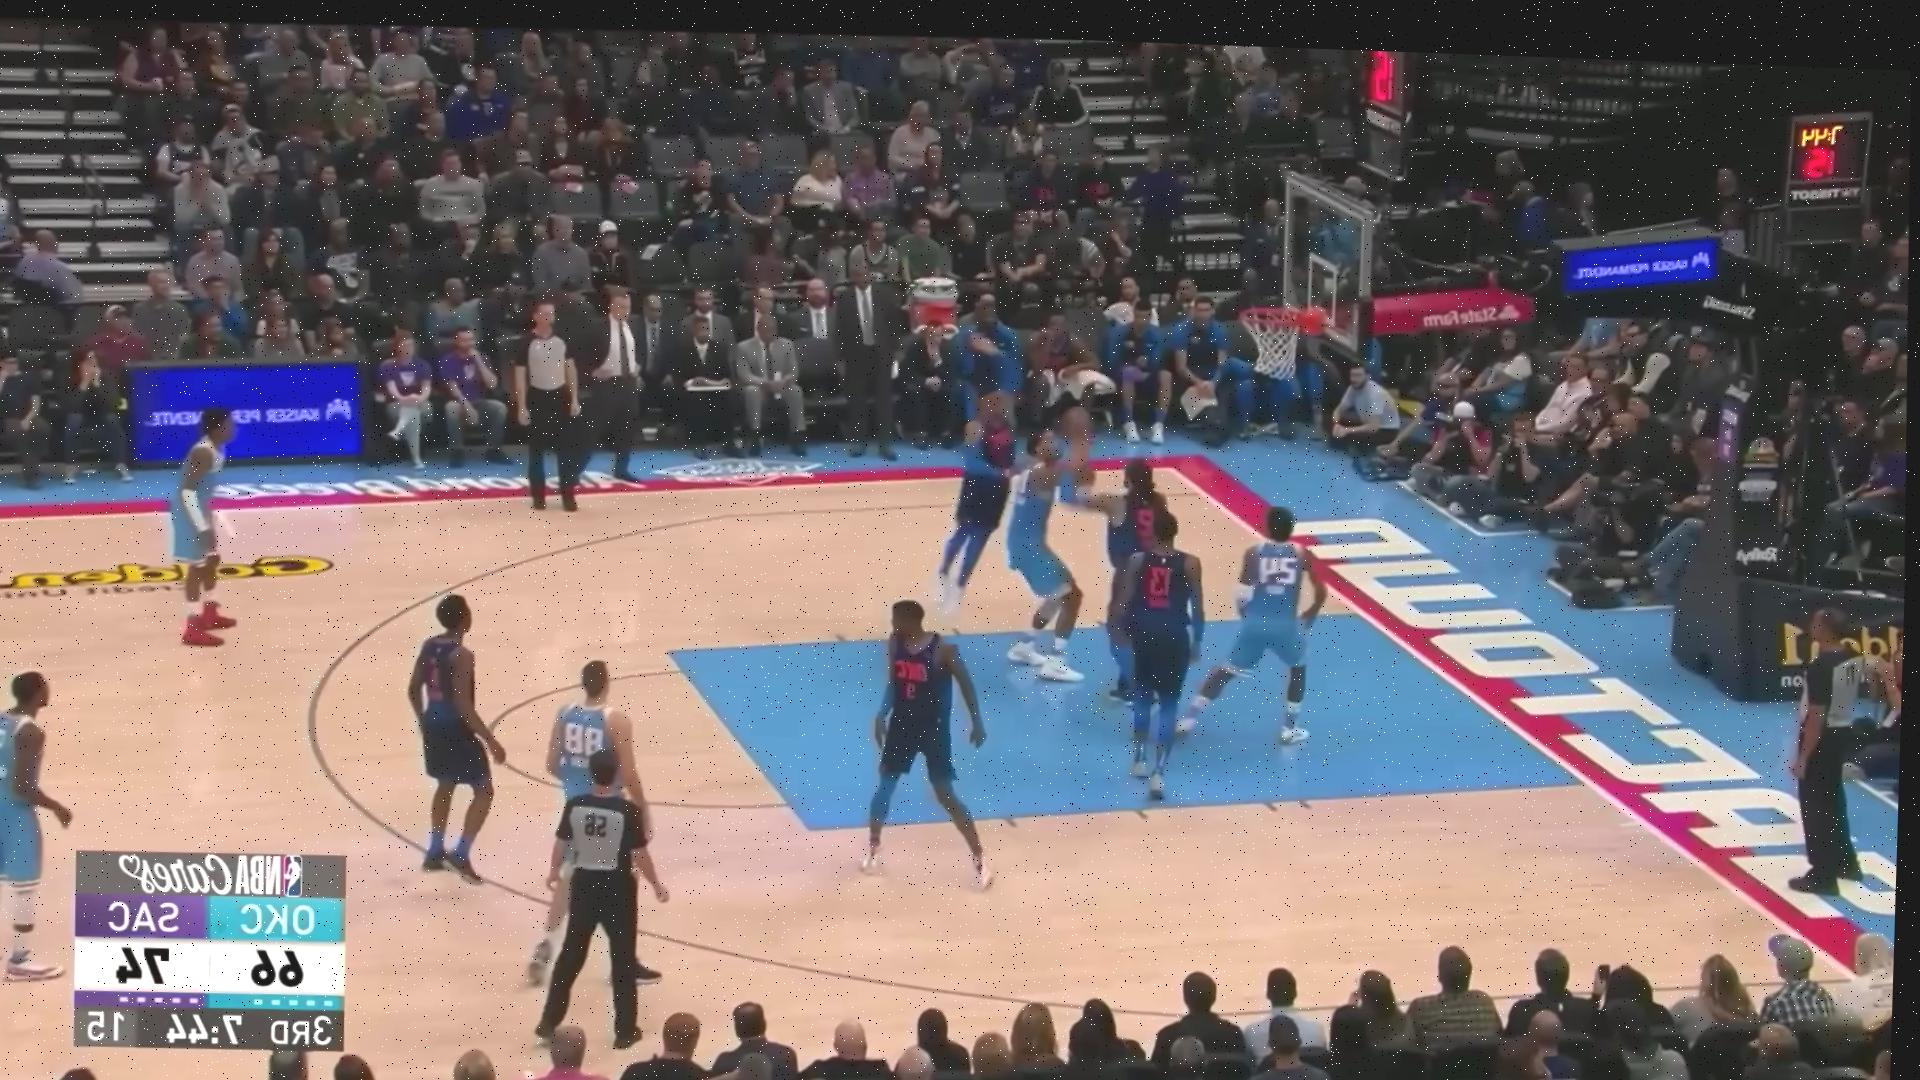no_foul: (919, 394, 1201, 659)
